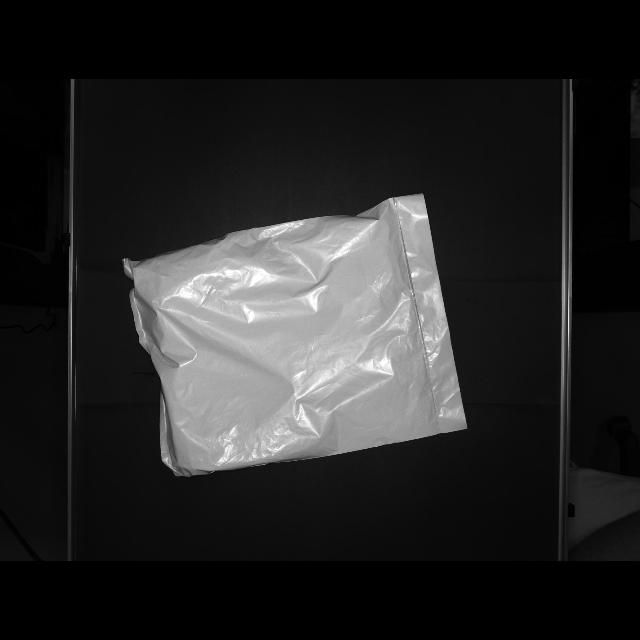mailer: (121, 192, 468, 484)
